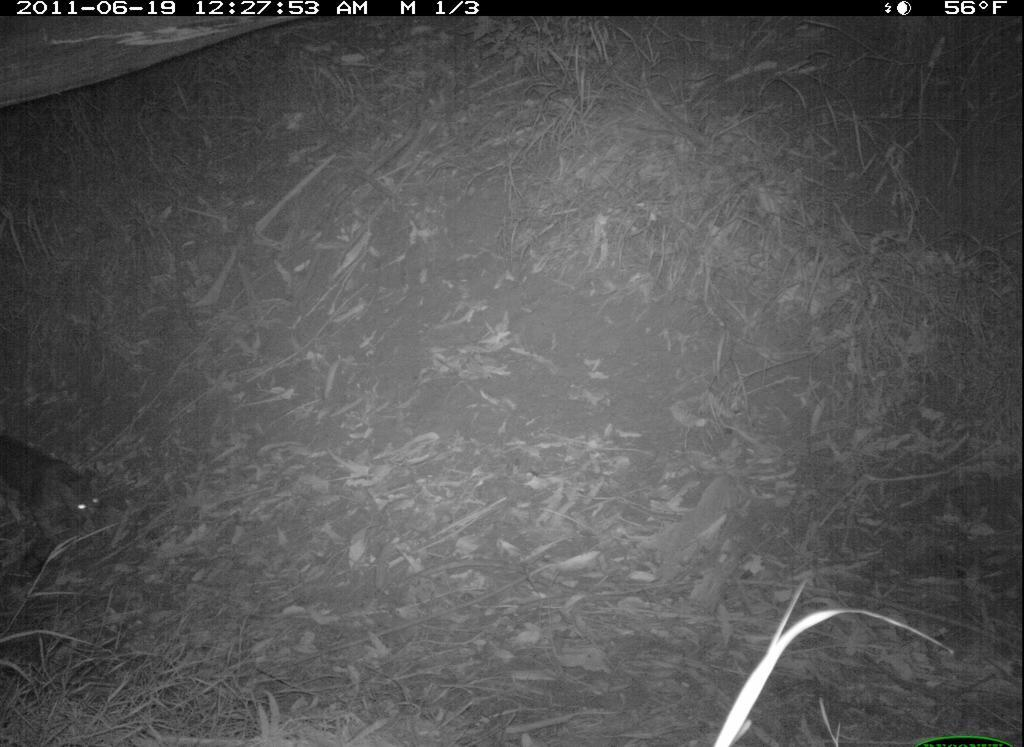cat: (7, 353, 154, 571)
